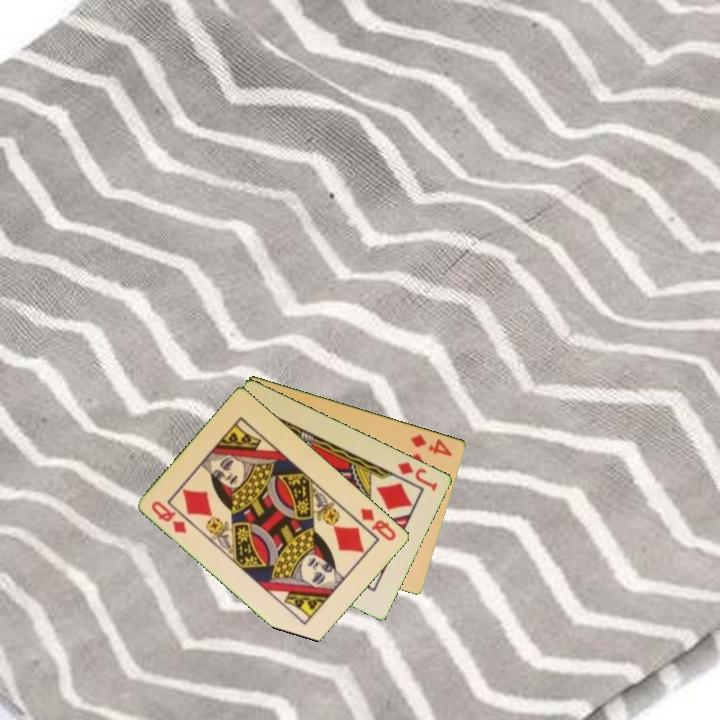4d: (407, 430, 455, 459)
Jd: (394, 458, 441, 493)
Qd: (357, 504, 399, 544), (148, 497, 190, 536)
